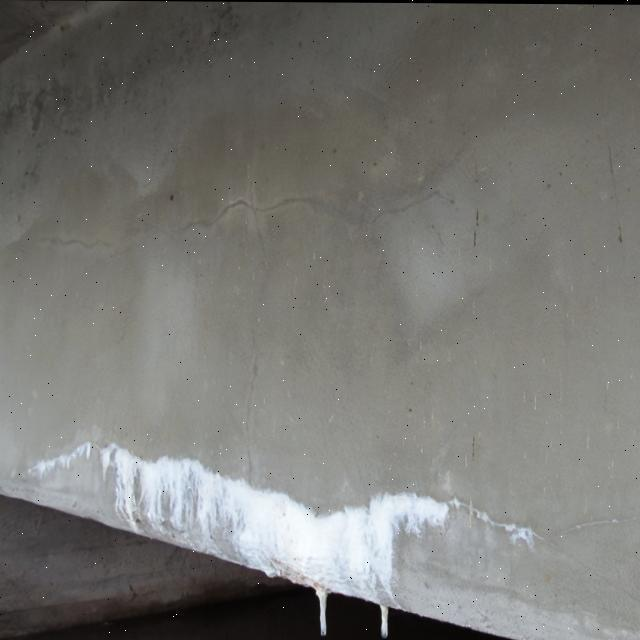D01: (102, 446, 457, 607), (30, 446, 93, 473), (506, 526, 537, 545)
